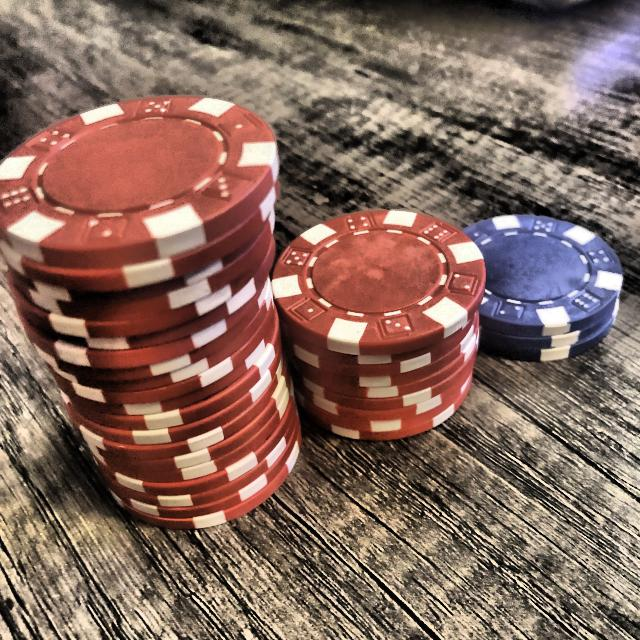Chip: (0, 60, 333, 540), (257, 195, 495, 451), (455, 189, 623, 376)
